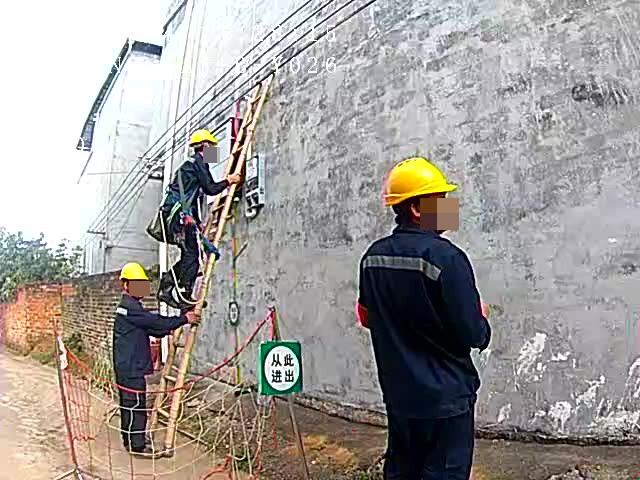badge: (354, 303, 369, 326)
downsuit: (382, 411, 478, 480), (117, 379, 147, 441)
halt: (118, 262, 150, 297), (190, 130, 218, 160)
hand: (229, 172, 243, 185), (186, 311, 201, 323)
inear: (405, 197, 433, 225)
intosign: (259, 343, 301, 392)
person: (355, 156, 494, 480), (109, 261, 190, 443), (166, 130, 230, 292)
safebelt: (161, 152, 222, 265)
support: (106, 257, 204, 460)
upsuit: (361, 232, 484, 409), (112, 298, 181, 380), (171, 158, 221, 213)
wronghalt: (385, 157, 461, 236)
